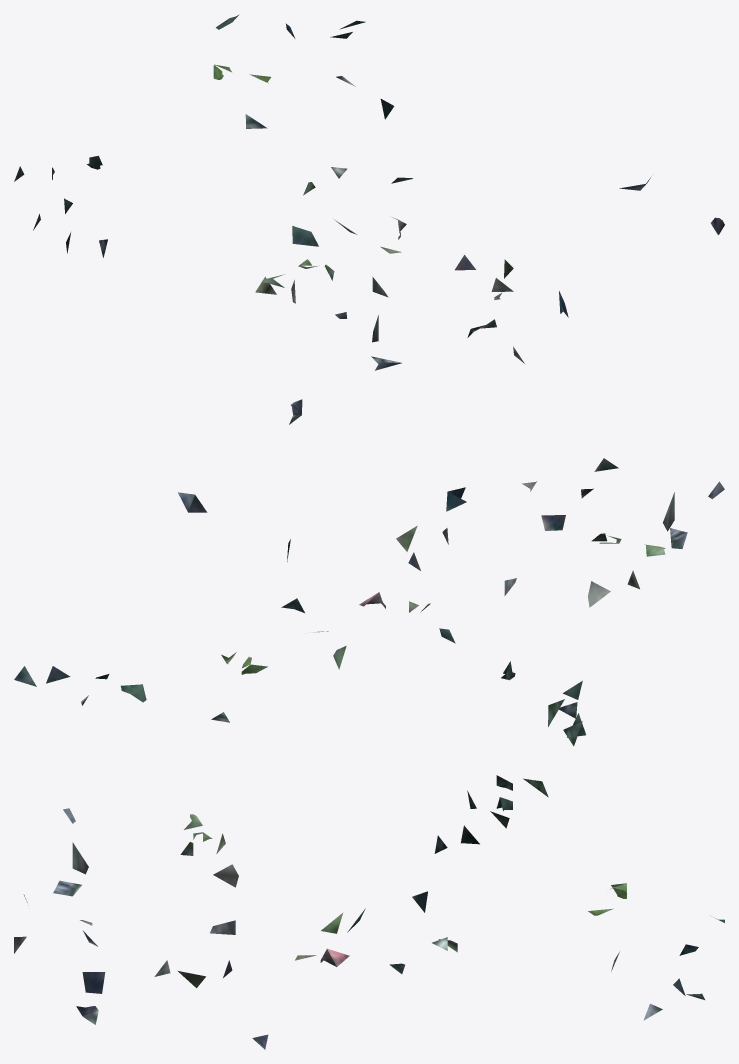
The picture shows the model from 3 angles, top to bottom: view 1: azimuth 30°, elevation 25°; view 2: azimuth 150°, elevation 25°; view 3: azimuth 270°, elevation 25°; orthographic projection. The views are drawn at different scales.
Visible parts, largest first — view 1: 3043627270437063441_1; view 2: 3043627270437063441_1; view 3: 3043627270437063441_1.
Part boxes in pixels (<box>): 3043627270437063441_1: <box>14,14,724,370</box>; 3043627270437063441_1: <box>14,399,724,746</box>; 3043627270437063441_1: <box>14,775,724,1049</box>.
Size of the model in its own units: 53.39 by 9.87 by 67.26.
Materials: 1 (1 with a texture image).
